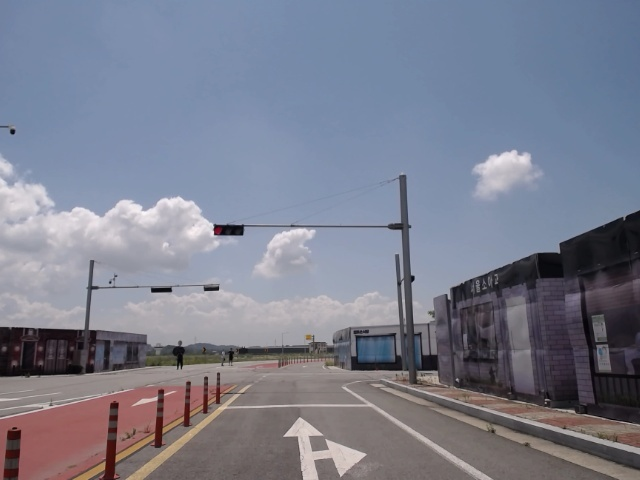red_3: (210, 225, 247, 237)
